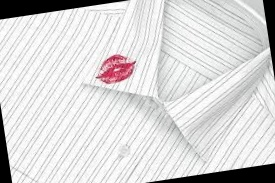lipstick: (98, 52, 138, 83)
